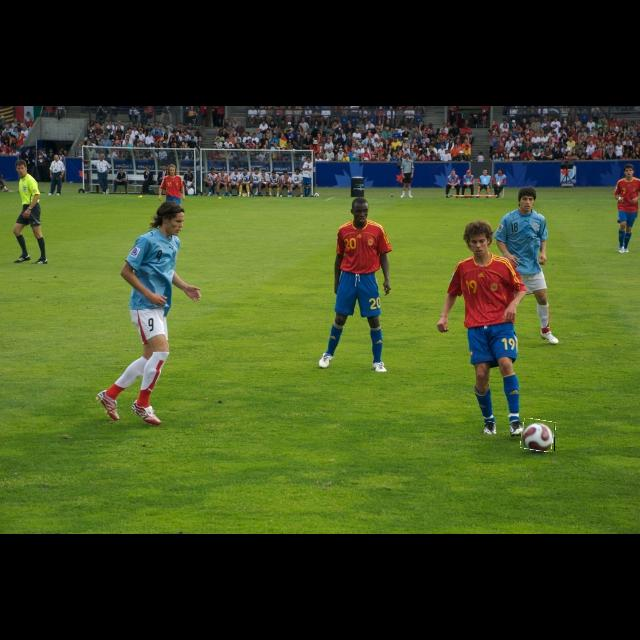Football: (521, 419, 555, 451)
